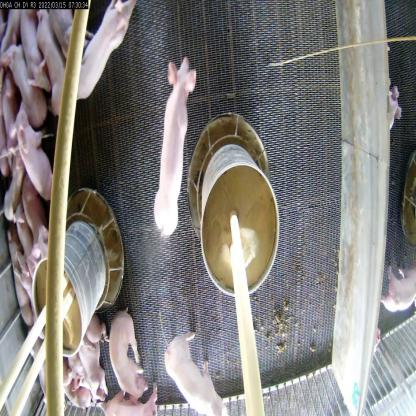Pig: (156, 44, 198, 251), (70, 0, 135, 115), (162, 327, 228, 416), (10, 105, 62, 196), (102, 306, 148, 394), (5, 38, 47, 132), (36, 19, 70, 118), (14, 0, 50, 83), (4, 224, 33, 315), (82, 322, 108, 409), (25, 174, 56, 244), (105, 388, 168, 415)
